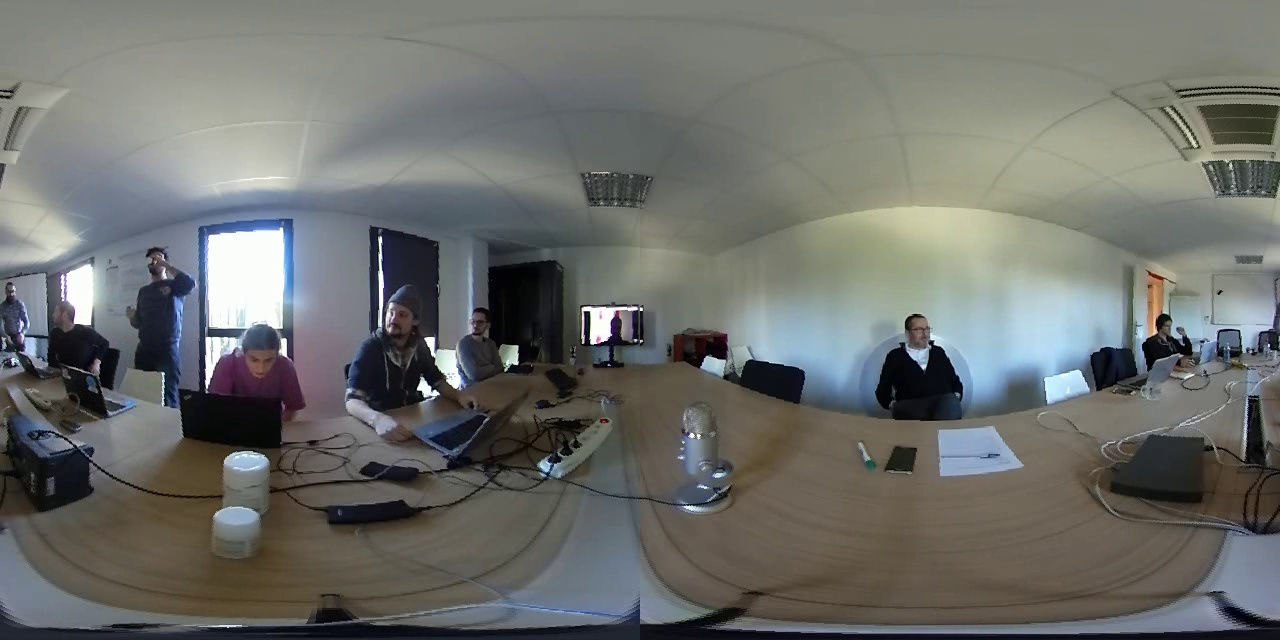person: (341, 273, 441, 423), (117, 236, 202, 389), (869, 306, 978, 418), (208, 321, 304, 410), (38, 288, 107, 374), (451, 298, 504, 388), (1140, 306, 1195, 369), (582, 307, 641, 347), (5, 279, 32, 351)
